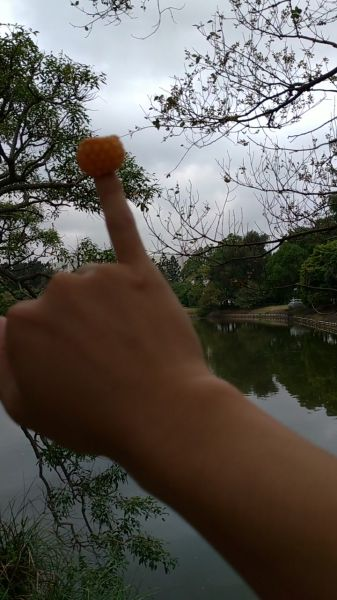eggs: (75, 137, 126, 175)
